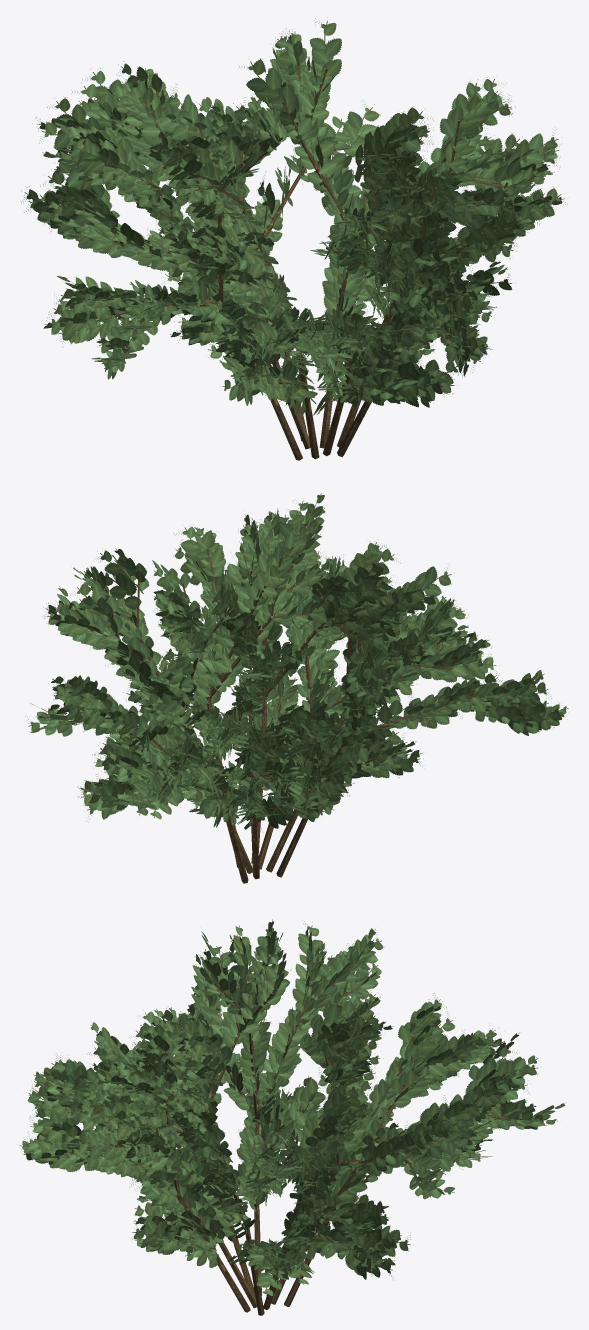
File: alder_thicket_v02_LOD1.fbx
The picture shows the model from 3 angles, top to bottom: view 1: azimuth 30°, elevation 25°; view 2: azimuth 150°, elevation 25°; view 3: azimuth 270°, elevation 25°; orthographic projection. The views are drawn at different scales.
Visible parts, largest first — view 1: alder_thicket_v02_LOD1; view 2: alder_thicket_v02_LOD1; view 3: alder_thicket_v02_LOD1.
Boxes of the visible parts, box(x1,y1,x2,y2) form: alder_thicket_v02_LOD1: box(20, 17, 567, 460); alder_thicket_v02_LOD1: box(25, 493, 568, 883); alder_thicket_v02_LOD1: box(19, 919, 566, 1315).
Bounding box in the file's own units: 636 × 440 × 654.
2 materials, 2 textured.
